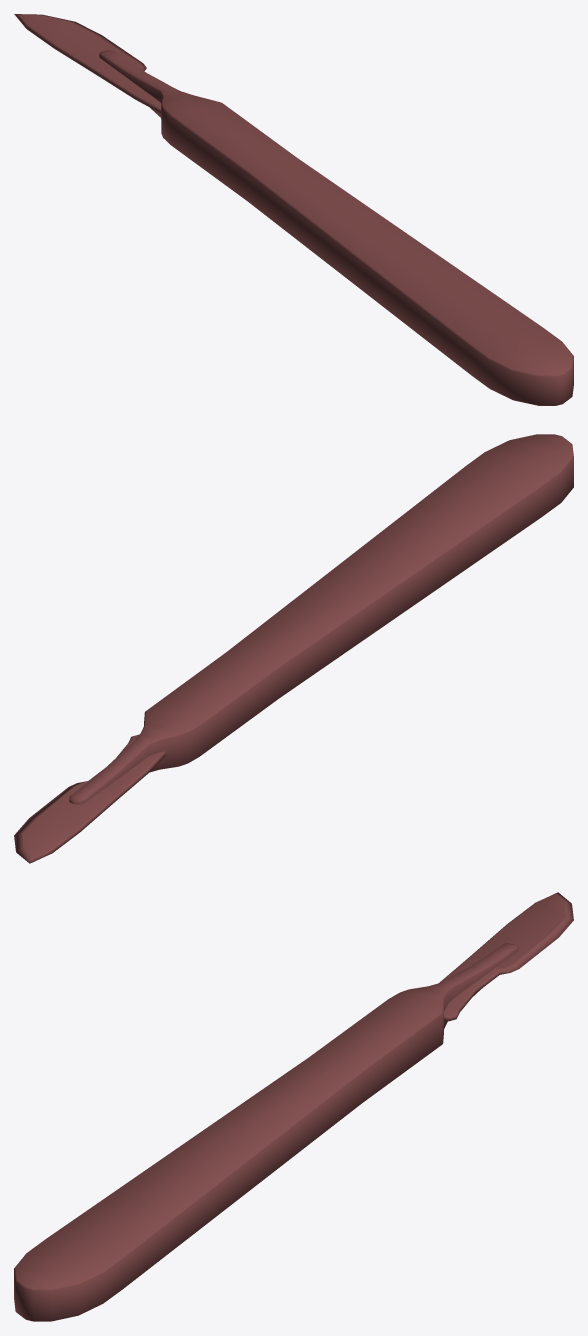
The model's file is Scalpel_01.fbx.
3 renders of one model, top to bottom at view 1: azimuth 30°, elevation 25°; view 2: azimuth 150°, elevation 25°; view 3: azimuth 330°, elevation 25°, orthographic. The views are drawn at different scales.
Parts seen in each view (by area): view 1: Scalpel_01; view 2: Scalpel_01; view 3: Scalpel_01.
Boxes of the visible parts, x1,y1,x2,y2 form: Scalpel_01: (14,14,573,405); Scalpel_01: (14,434,573,863); Scalpel_01: (14,892,573,1321).
Bounding box in the file's own units: 0.9685 × 11.9 × 0.3928.
